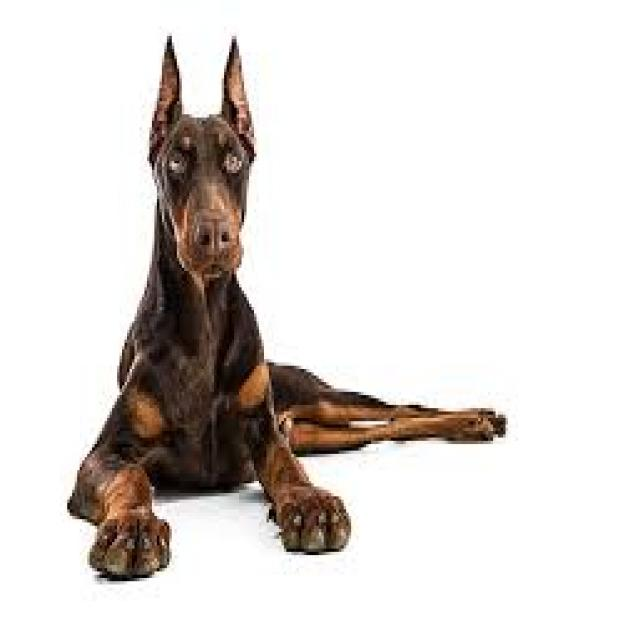Dog: (63, 30, 515, 584)
